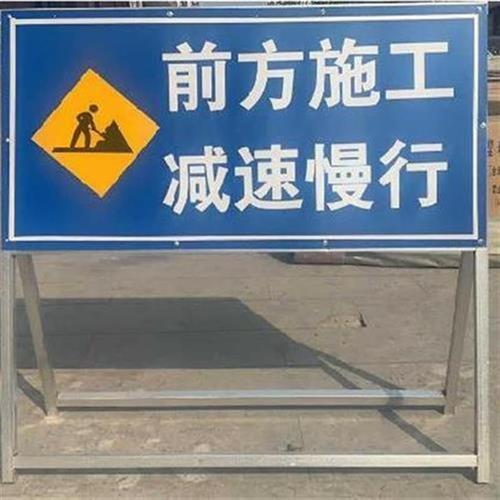sign: (6, 18, 486, 474)
